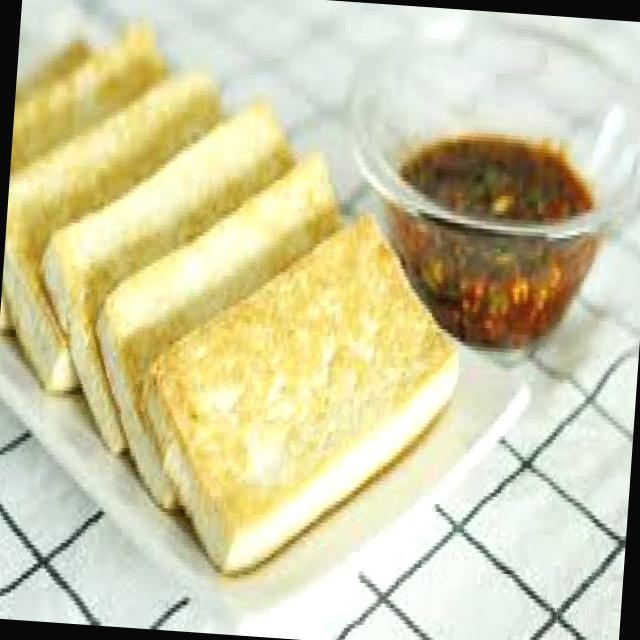tof: (9, 29, 488, 581)
